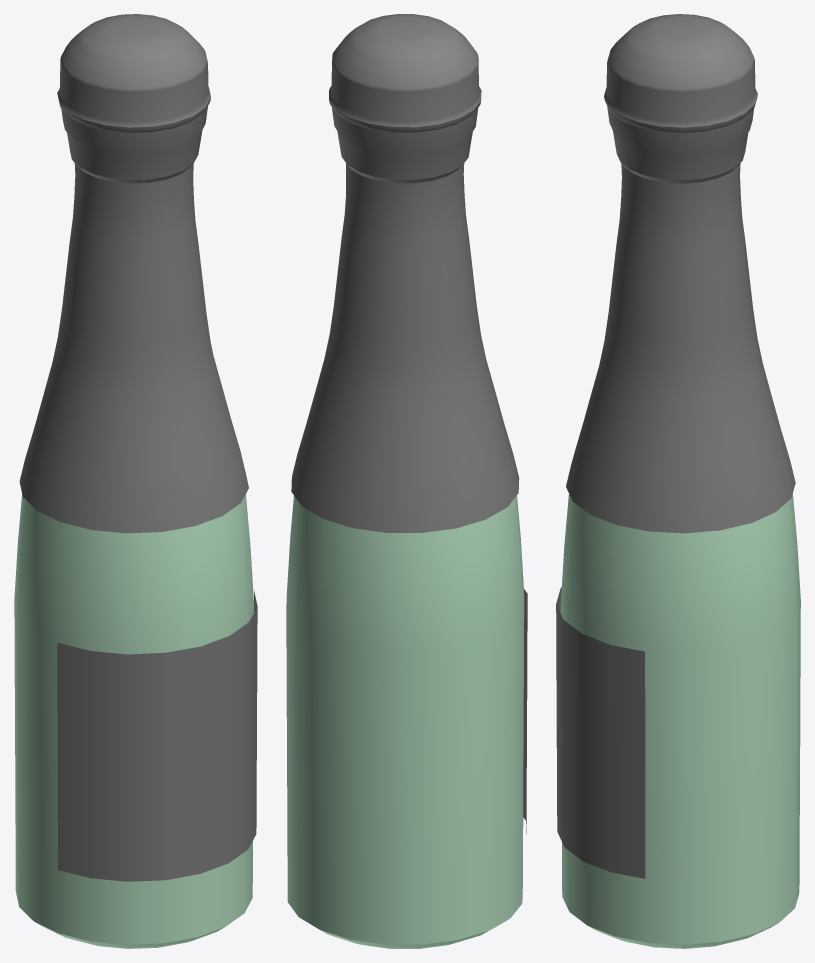
Rendered from SM_Cinnano.FBX.
3 views of the same model, side by side, from view 1: azimuth 30°, elevation 25°; view 2: azimuth 150°, elevation 25°; view 3: azimuth 270°, elevation 25° (orthographic).
Visible parts, largest first — view 1: SM_Cinnano_LOD0; view 2: SM_Cinnano_LOD0; view 3: SM_Cinnano_LOD0.
Part boxes in pixels (x1,y1,x2,y2): SM_Cinnano_LOD0: (14, 14, 257, 948); SM_Cinnano_LOD0: (286, 14, 527, 948); SM_Cinnano_LOD0: (556, 14, 800, 948).
Size of what is drawn, in the model's own units: 11.12 by 45.33 by 11.33.
